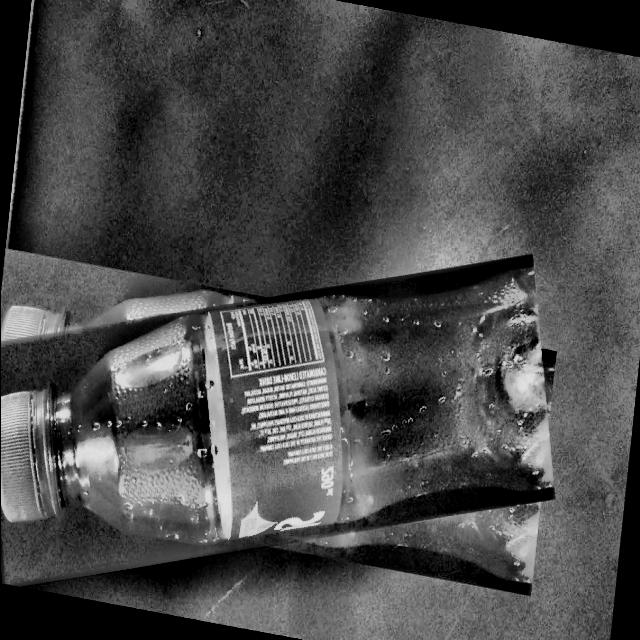Plastic-Bottle: (0, 202, 568, 640)
